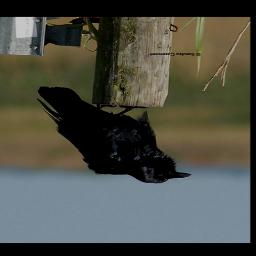Crow: (34, 85, 192, 184)
